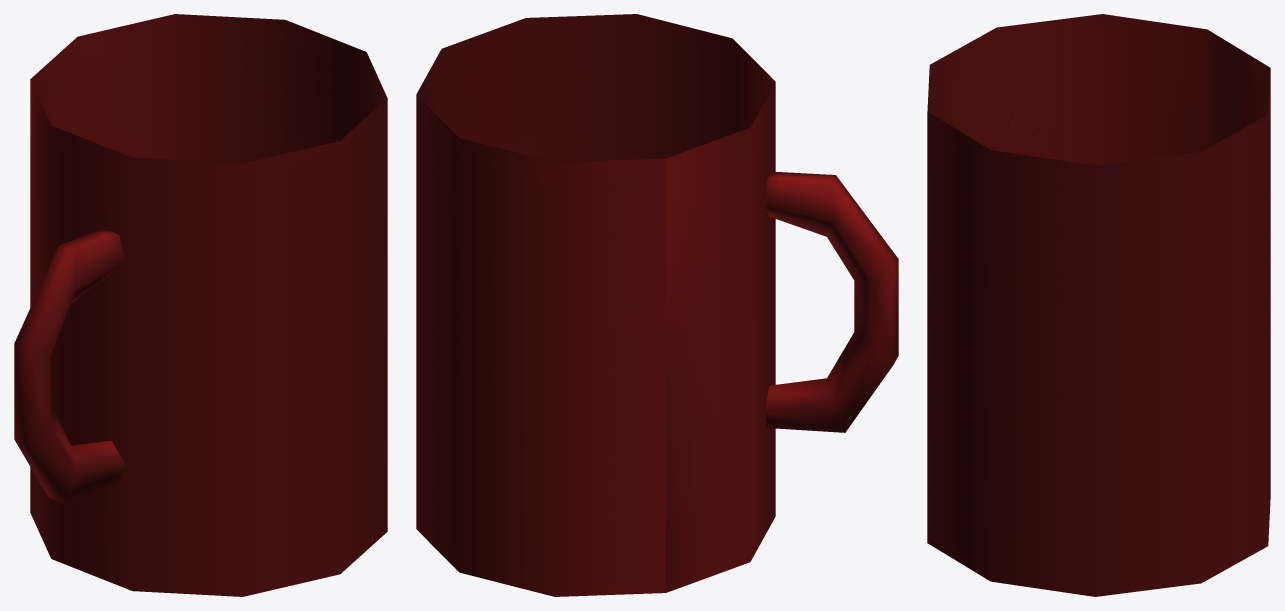
File: Tx_props_bookshelf_7.fbx
3 renders of one model, left to right at view 1: azimuth 30°, elevation 25°; view 2: azimuth 150°, elevation 25°; view 3: azimuth 270°, elevation 25°, orthographic.
Parts seen in each view (by area): view 1: Tx_props_glass_8; view 2: Tx_props_glass_8; view 3: Tx_props_glass_8.
Boxes of the visible parts, x1,y1,x2,y2 form: Tx_props_glass_8: [14, 14, 387, 596]; Tx_props_glass_8: [416, 14, 898, 596]; Tx_props_glass_8: [927, 14, 1270, 596].
Size of the model in its own units: 0.7254 by 0.7481 by 0.539.
